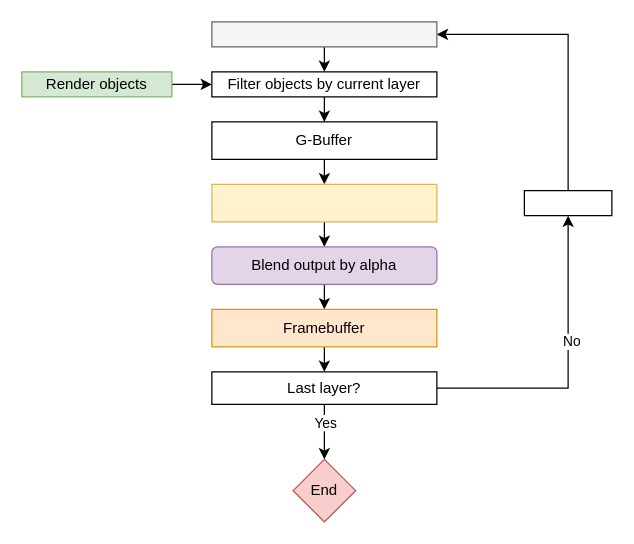
The diagram is 634 pixels wide and 544 high, and some of its shapes have lost their labels. Here are the shapes that lost their labels. From the top down, the centre of each, then its label:
At [324,34]: "Reset G-Buffer".
At [324,202]: "Intermediate framebuffer".
At [567,202]: "Next layer".
